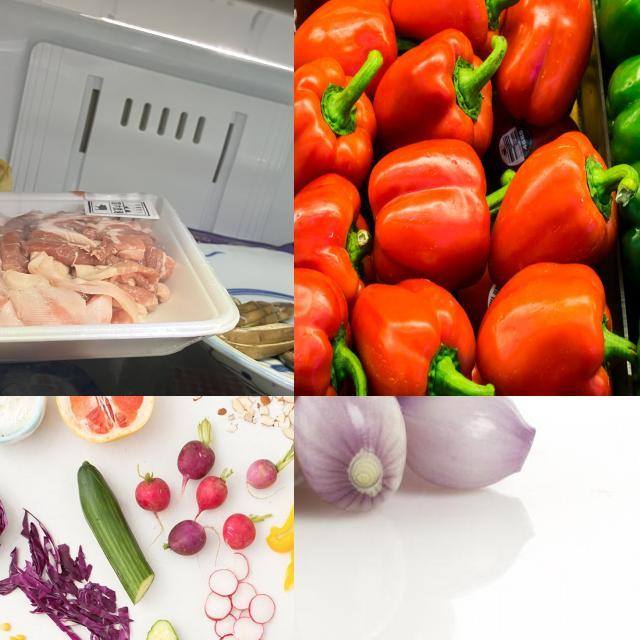bell_pepper: (499, 126, 633, 306), (369, 136, 504, 298), (354, 251, 489, 397), (492, 261, 630, 397), (380, 27, 508, 173), (501, 1, 597, 132), (295, 43, 376, 192), (295, 247, 363, 397), (295, 1, 401, 91), (295, 170, 370, 290), (393, 1, 524, 48), (607, 53, 640, 150)
cucumber: (78, 462, 153, 594)
onion: (403, 397, 535, 498), (295, 397, 406, 517)
